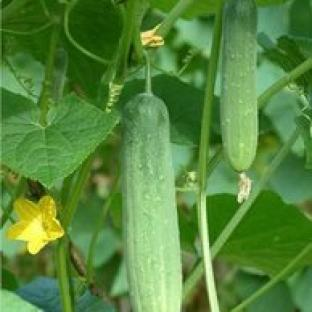Cucumber: (123, 94, 181, 311)
